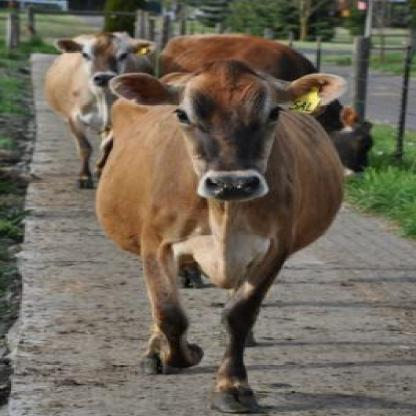lower: (209, 199, 254, 201)
mouth: (194, 170, 278, 206)
upper: (222, 182, 239, 191)
